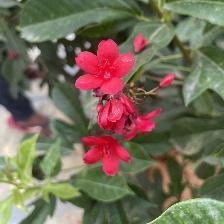jatropha: (74, 36, 134, 98)
